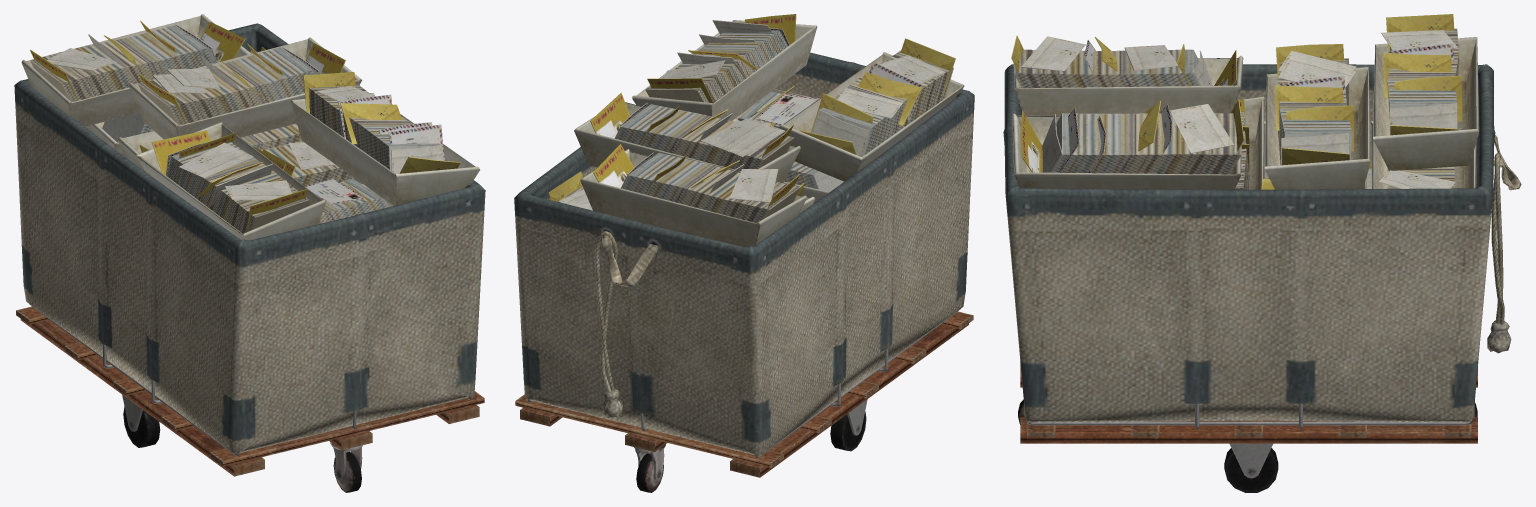
Rendered from 161_MailCart.fbx.
3 renders of one model, left to right at view 1: azimuth 30°, elevation 25°; view 2: azimuth 150°, elevation 25°; view 3: azimuth 270°, elevation 25°, orthographic. The views are drawn at different scales.
Visible parts, largest first — view 1: LOD_1_Group_0_Sub_1__sm30_161_MailCart01A_A_Mat; view 2: LOD_1_Group_0_Sub_1__sm30_161_MailCart01A_A_Mat; view 3: LOD_1_Group_0_Sub_1__sm30_161_MailCart01A_A_Mat.
Boxes of the visible parts, x1,y1,x2,y2 form: LOD_1_Group_0_Sub_1__sm30_161_MailCart01A_A_Mat: [14, 14, 485, 492]; LOD_1_Group_0_Sub_1__sm30_161_MailCart01A_A_Mat: [514, 14, 974, 492]; LOD_1_Group_0_Sub_1__sm30_161_MailCart01A_A_Mat: [1003, 14, 1521, 492].
Bounding box in the file's own units: 0.7756 × 0.9506 × 1.24.
